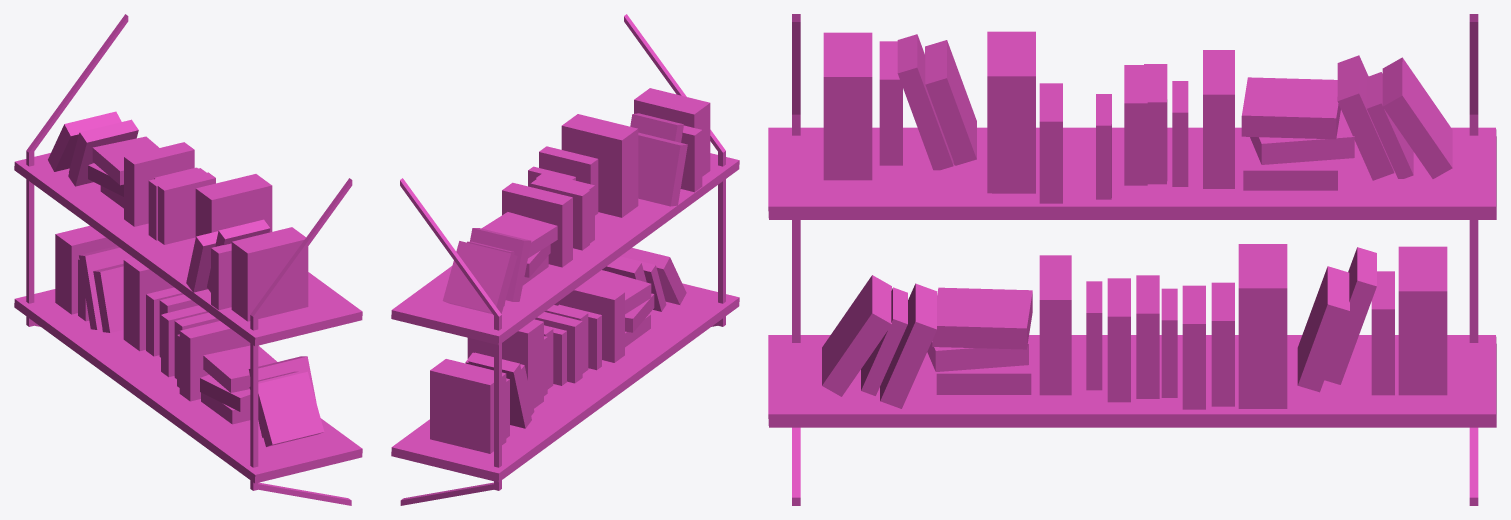
Rendered from Shelves.fbx.
3 views of the same model, side by side, from view 1: azimuth 30°, elevation 25°; view 2: azimuth 150°, elevation 25°; view 3: azimuth 270°, elevation 25° (orthographic). The views are drawn at different scales.
Visible parts, largest first — view 1: Shelves; view 2: Shelves; view 3: Shelves.
Boxes of the visible parts, <box> form: Shelves: <box>14,14,362,505</box>; Shelves: <box>391,14,739,505</box>; Shelves: <box>768,14,1496,505</box>.
Bounding box in the file's own units: 24.17 × 69.99 × 93.81.
